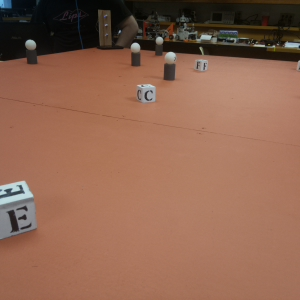blockC: (137, 83, 155, 103)
blockE: (1, 181, 38, 240)
blockF: (196, 58, 209, 72)
corner: (99, 10, 111, 45)
obstacle: (163, 51, 176, 80), (24, 39, 37, 63), (129, 41, 141, 66), (154, 35, 164, 56)
